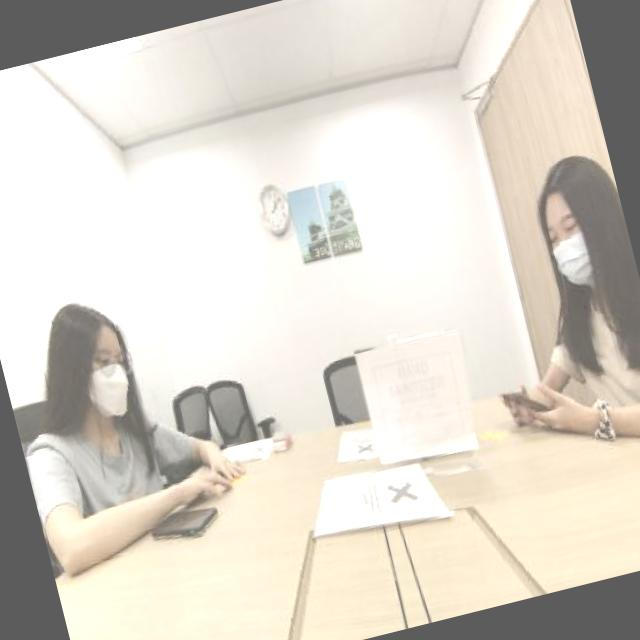Person: (0, 243, 238, 551), (486, 111, 640, 420)
